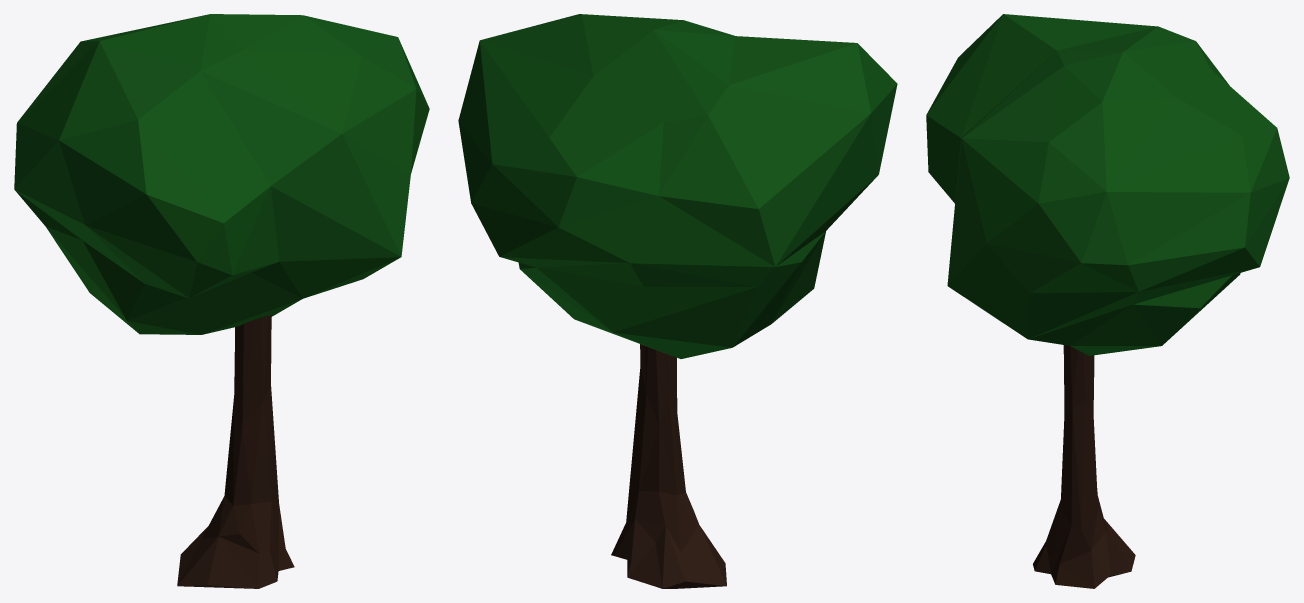
File: SM_tree_14.fbx
The picture shows the model from 3 angles, left to right: view 1: azimuth 30°, elevation 25°; view 2: azimuth 150°, elevation 25°; view 3: azimuth 270°, elevation 25°; orthographic projection. The views are drawn at different scales.
Parts seen in each view (by area): view 1: tree_14; view 2: tree_14; view 3: tree_14.
Boxes of the visible parts, left/top/right/bottom form: tree_14: left=14, top=14, right=429, bottom=588; tree_14: left=458, top=14, right=897, bottom=588; tree_14: left=926, top=14, right=1289, bottom=588.
Size of the model in its own units: 573 by 788 by 502.
